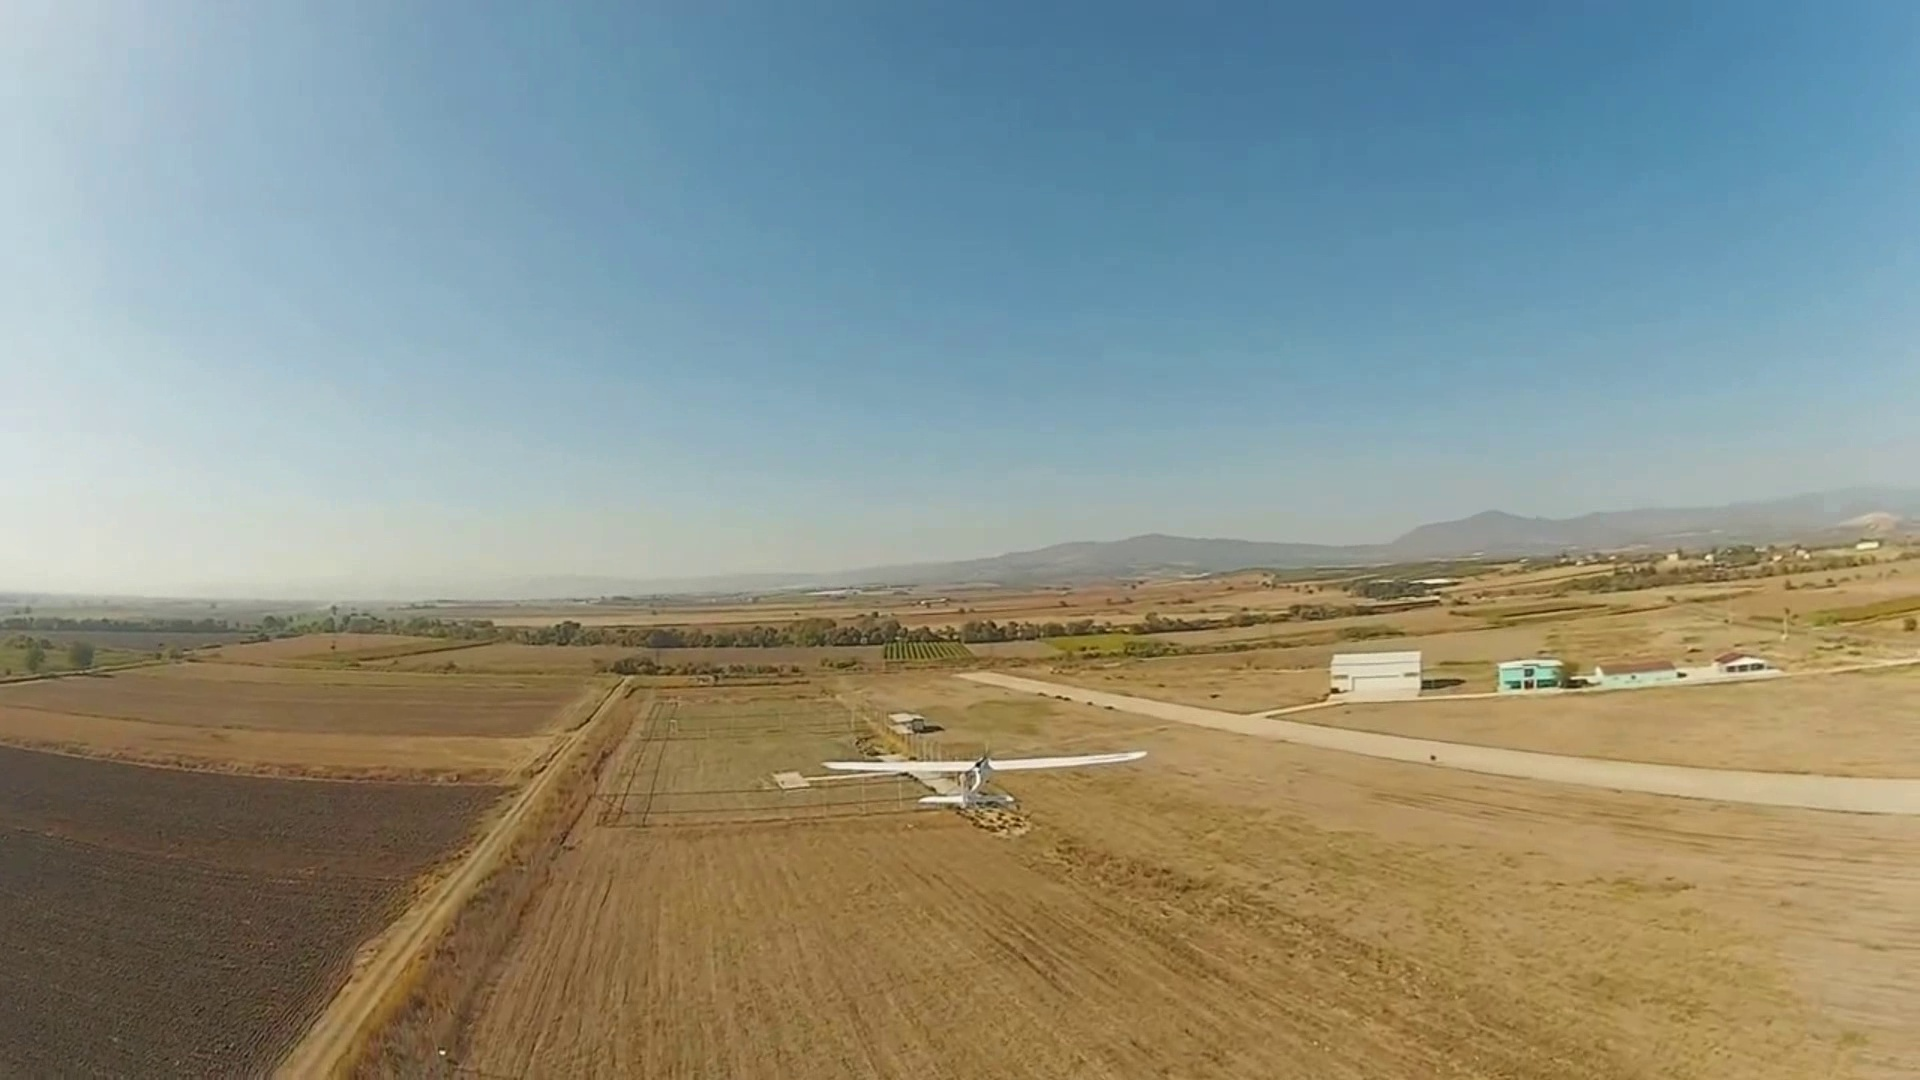airplane: (776, 741, 1149, 832)
